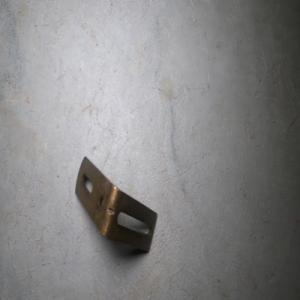MetalPart: (74, 154, 158, 254)
